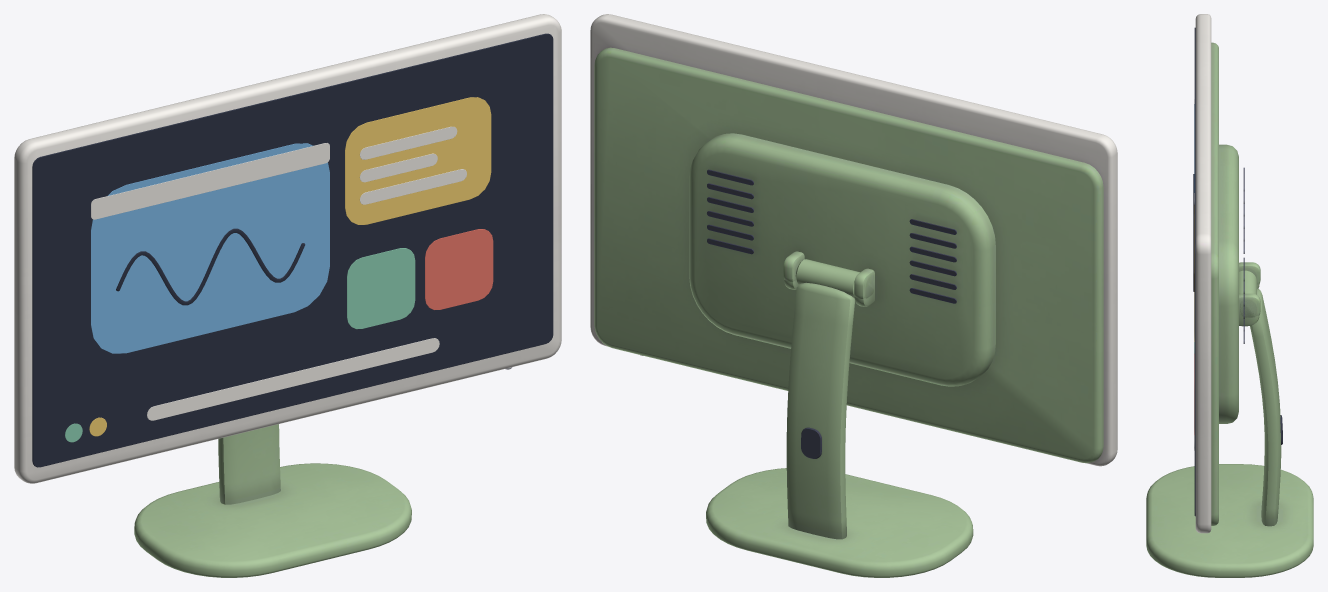
The model's file is computer-monitor.glb.
3 views of the same model, side by side, from view 1: azimuth 30°, elevation 25°; view 2: azimuth 150°, elevation 25°; view 3: azimuth 270°, elevation 25° (orthographic). The views are drawn at different scales.
Visible parts, largest first — view 1: computer-monitor_screen_glass, computer-monitor_tilt, computer-monitor_body; view 2: computer-monitor_tilt, computer-monitor_body; view 3: computer-monitor_tilt, computer-monitor_body, computer-monitor_screen_glass.
Boxes of the visible parts, x1,y1,x2,y2 form: computer-monitor_screen_glass: (32, 33, 553, 467); computer-monitor_tilt: (14, 14, 561, 483); computer-monitor_body: (134, 424, 411, 577); computer-monitor_tilt: (590, 14, 1117, 466); computer-monitor_body: (706, 259, 973, 577); computer-monitor_tilt: (1195, 14, 1260, 533); computer-monitor_body: (1146, 270, 1313, 577); computer-monitor_screen_glass: (1193, 27, 1195, 516).
Bounding box in the file's own units: 0.556 × 0.452 × 0.17.
Materials: 9 (2 with a texture image).
